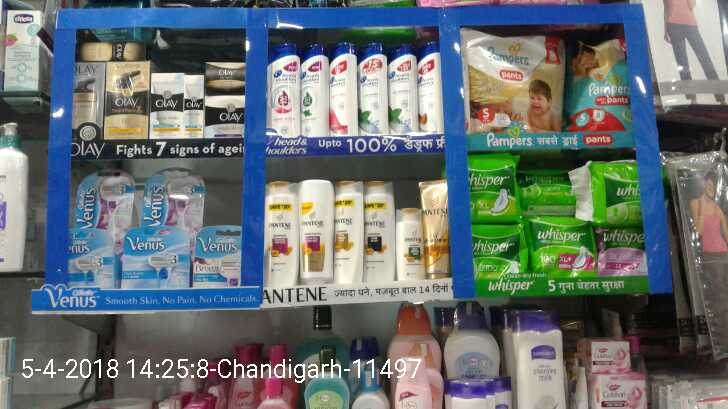venus: (122, 229, 191, 289), (140, 168, 204, 228), (78, 168, 134, 229), (67, 230, 117, 291), (194, 225, 241, 286)
